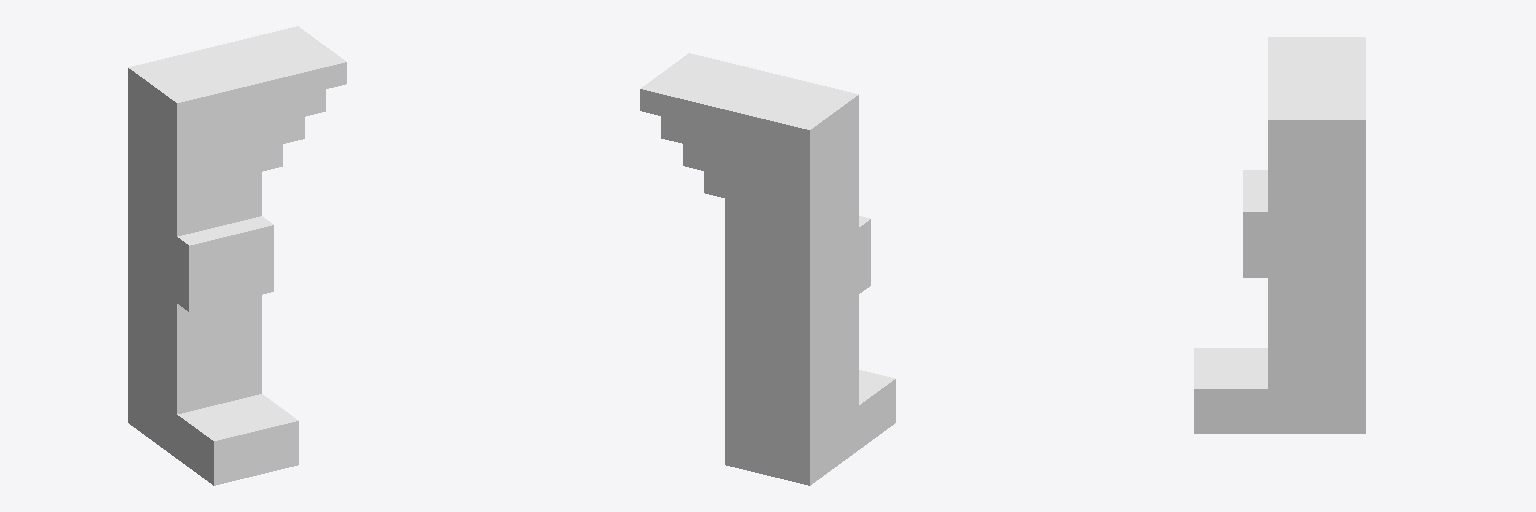
File: TSNEnemy-1.obj
3 views of the same model, side by side, from view 1: azimuth 30°, elevation 25°; view 2: azimuth 150°, elevation 25°; view 3: azimuth 270°, elevation 25° (orthographic).
Parts seen in each view (by area): view 1: object 1; view 2: object 1; view 3: object 1.
Boxes of the visible parts, x1,y1,x2,y2 form: object 1: [128, 26, 346, 485]; object 1: [640, 53, 895, 485]; object 1: [1194, 37, 1365, 433].
Size of the model in its own units: 0.8 by 1.6 by 0.7.